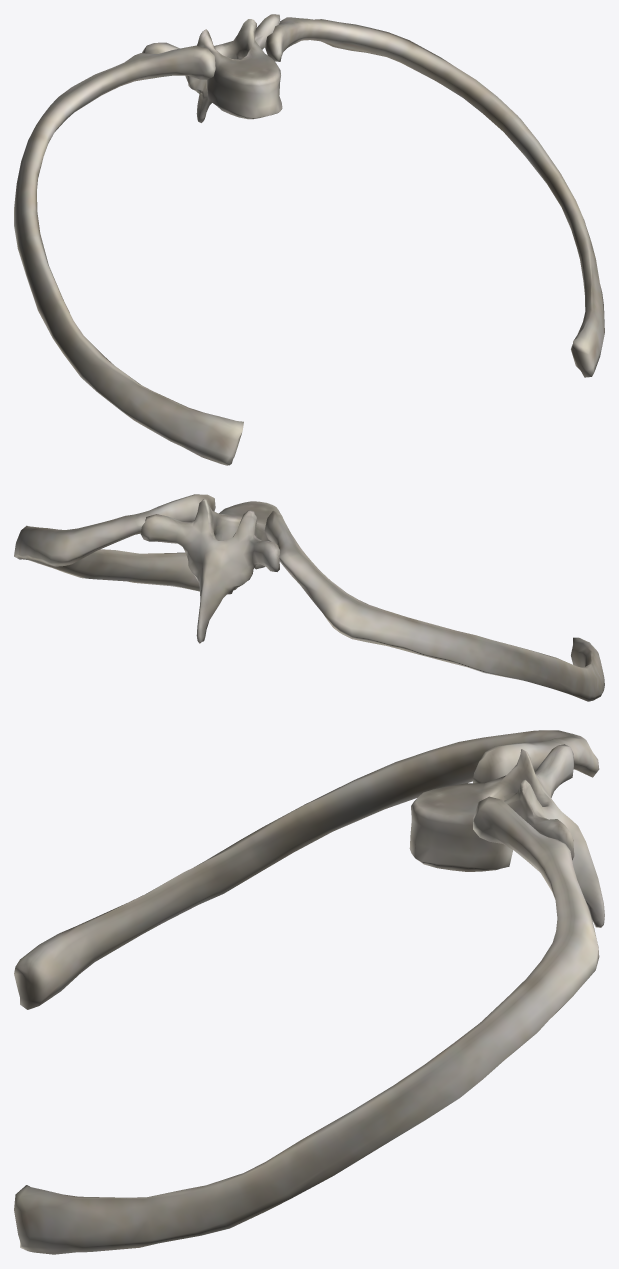
File: t6-rib.glb
3 views of the same model, one above another, from view 1: azimuth 30°, elevation 25°; view 2: azimuth 150°, elevation 25°; view 3: azimuth 270°, elevation 25° (orthographic). The views are drawn at different scales.
Parts seen in each view (by area): view 1: Right_6th_rib, Left_6th_rib, T6_vertebra; view 2: Right_6th_rib, Left_6th_rib, T6_vertebra; view 3: Left_6th_rib, Right_6th_rib, T6_vertebra.
Boxes of the visible parts, x1,y1,x2,y2 form: Right_6th_rib: (14, 45, 243, 465); Left_6th_rib: (264, 17, 604, 377); T6_vertebra: (142, 14, 282, 122); Right_6th_rib: (264, 511, 604, 701); Left_6th_rib: (14, 494, 232, 594); T6_vertebra: (140, 499, 280, 643); Left_6th_rib: (14, 796, 599, 1254); Right_6th_rib: (14, 730, 599, 1009); T6_vertebra: (409, 744, 604, 927).
Bounding box in the file's own units: 0.2672 × 0.1302 × 0.1911.
Materials: 3 (3 with a texture image).
